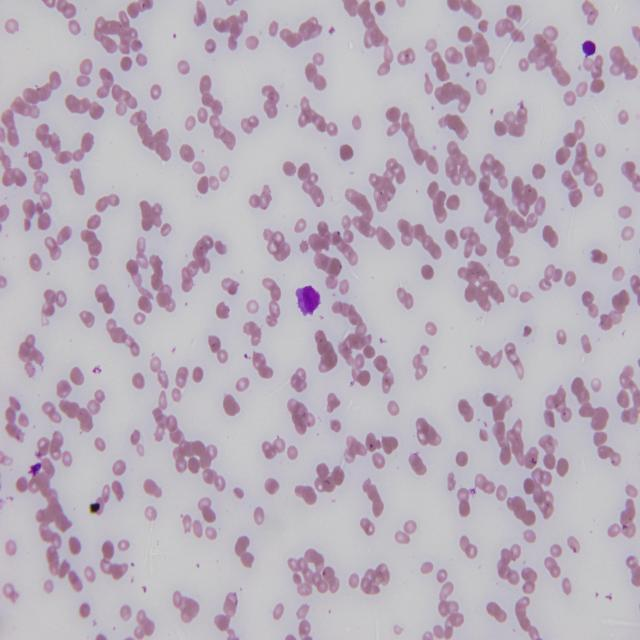cell: (296, 285, 320, 316), (582, 40, 596, 57)
